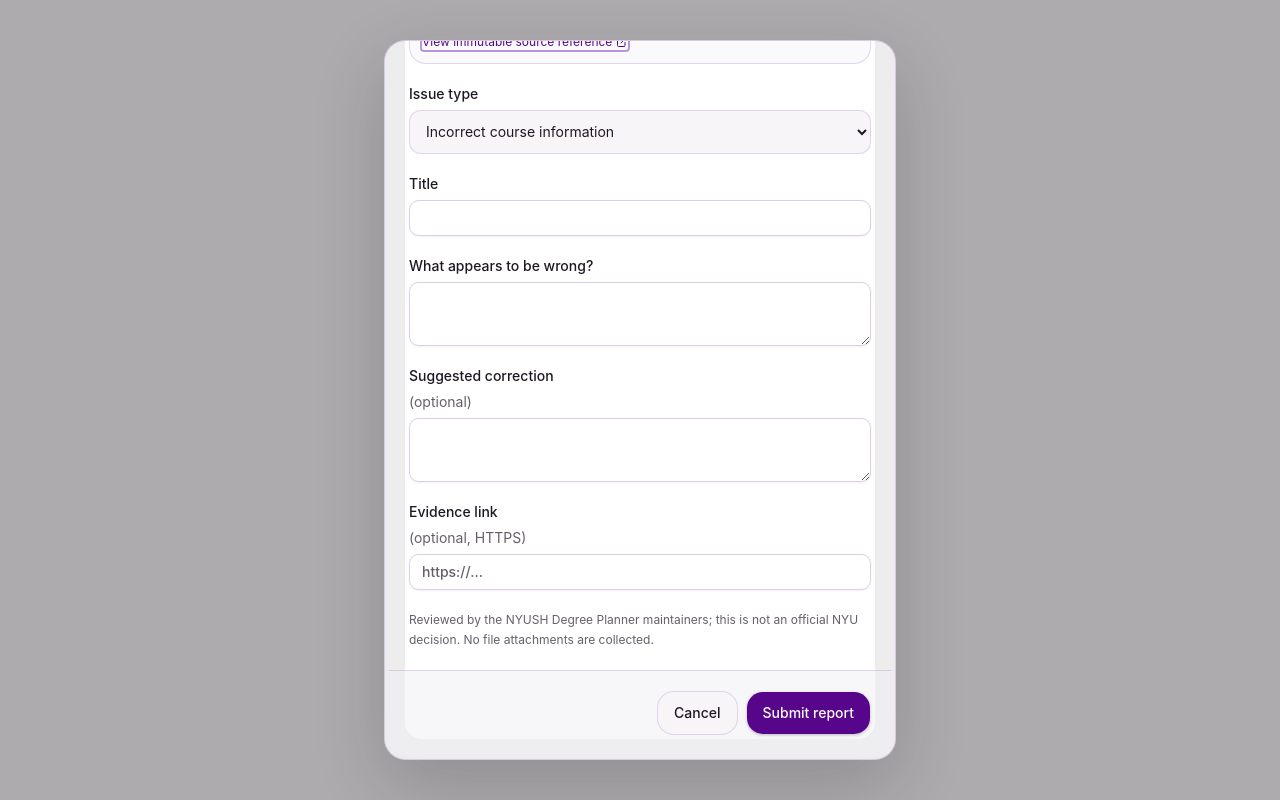
Test: ReportIssueDialog › shows local validation and rate-limit states
(page scrolled)
Click the button "Submit report" at [808, 712], box [746,690,871,734]
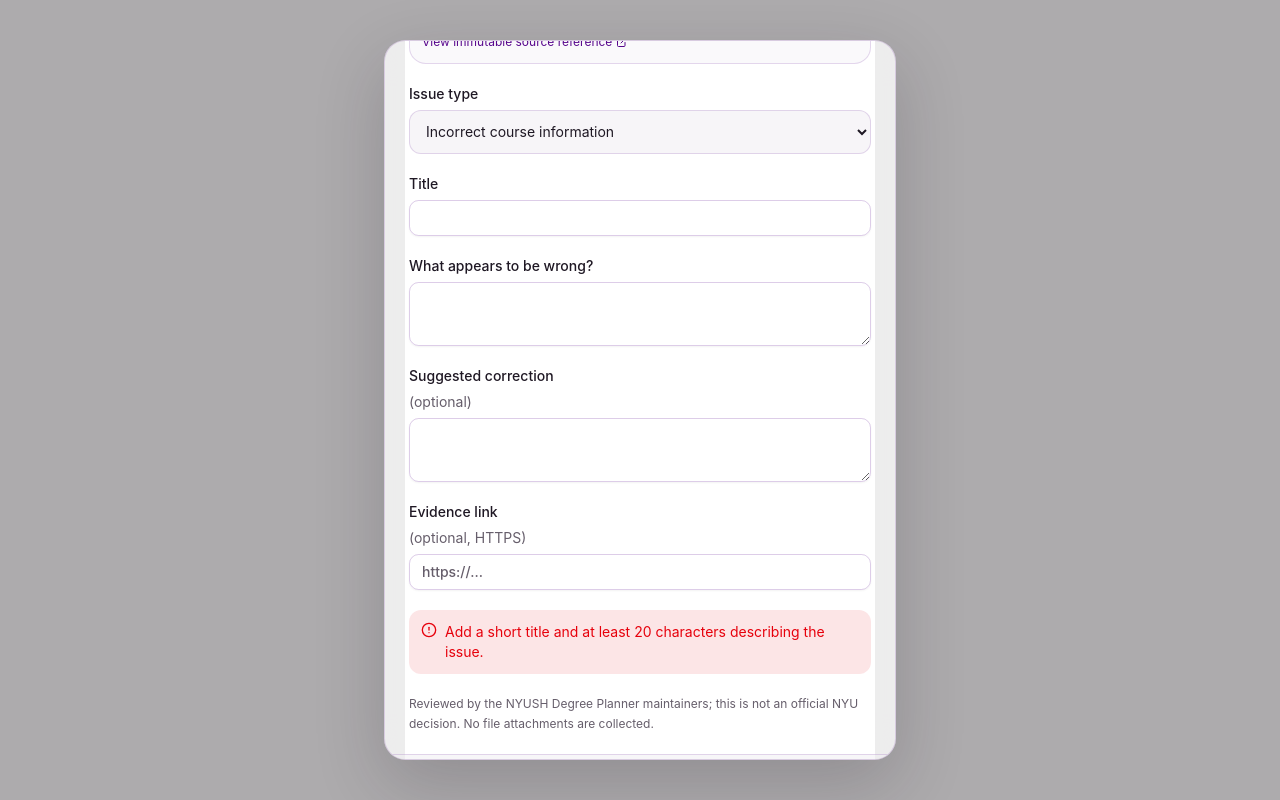
Now the message shows "at least 20", box [445,622,825,660]
Type "Wrong title" into the field labelled "Title" at [640, 218], box [409,200,871,236]
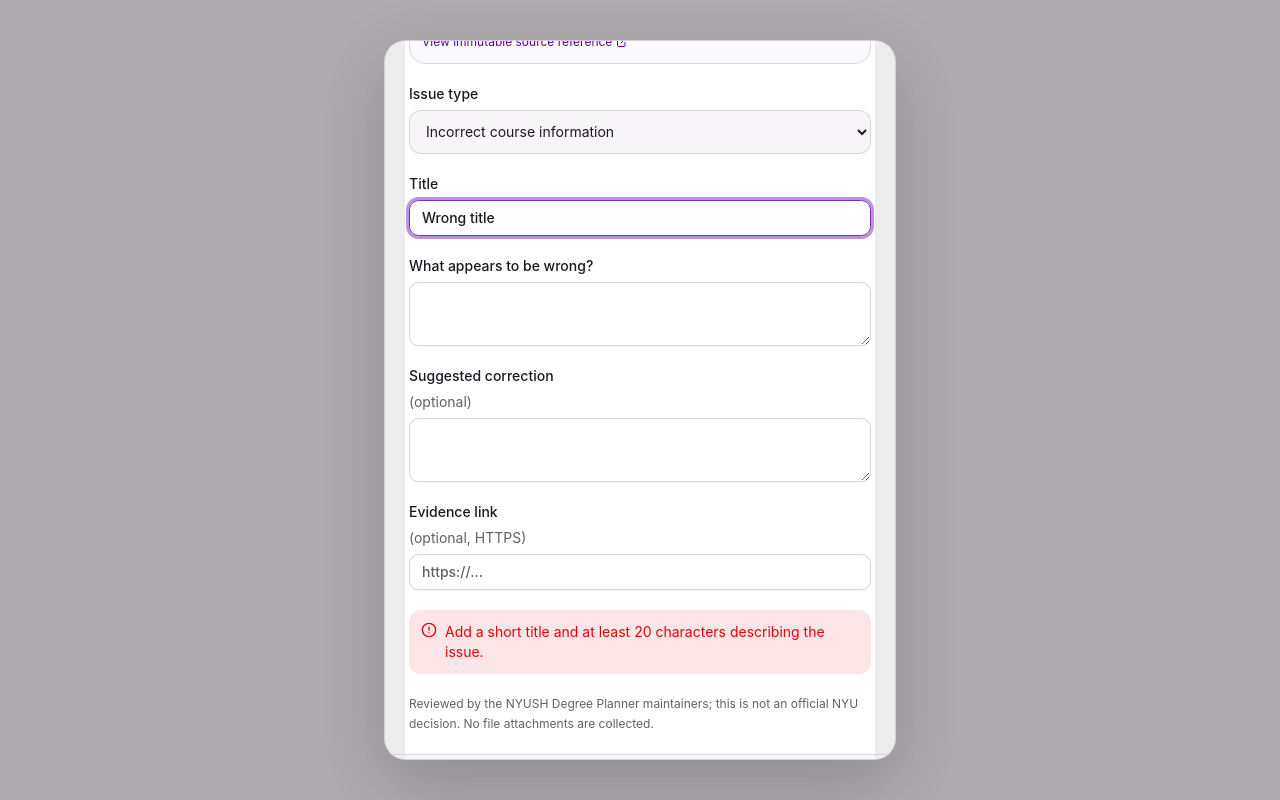
Type "This is a sufficiently detailed explanation of the issue." into the text box labelled "What appears to be wrong?" at [640, 314], box [409,282,871,346]
(page scrolled)
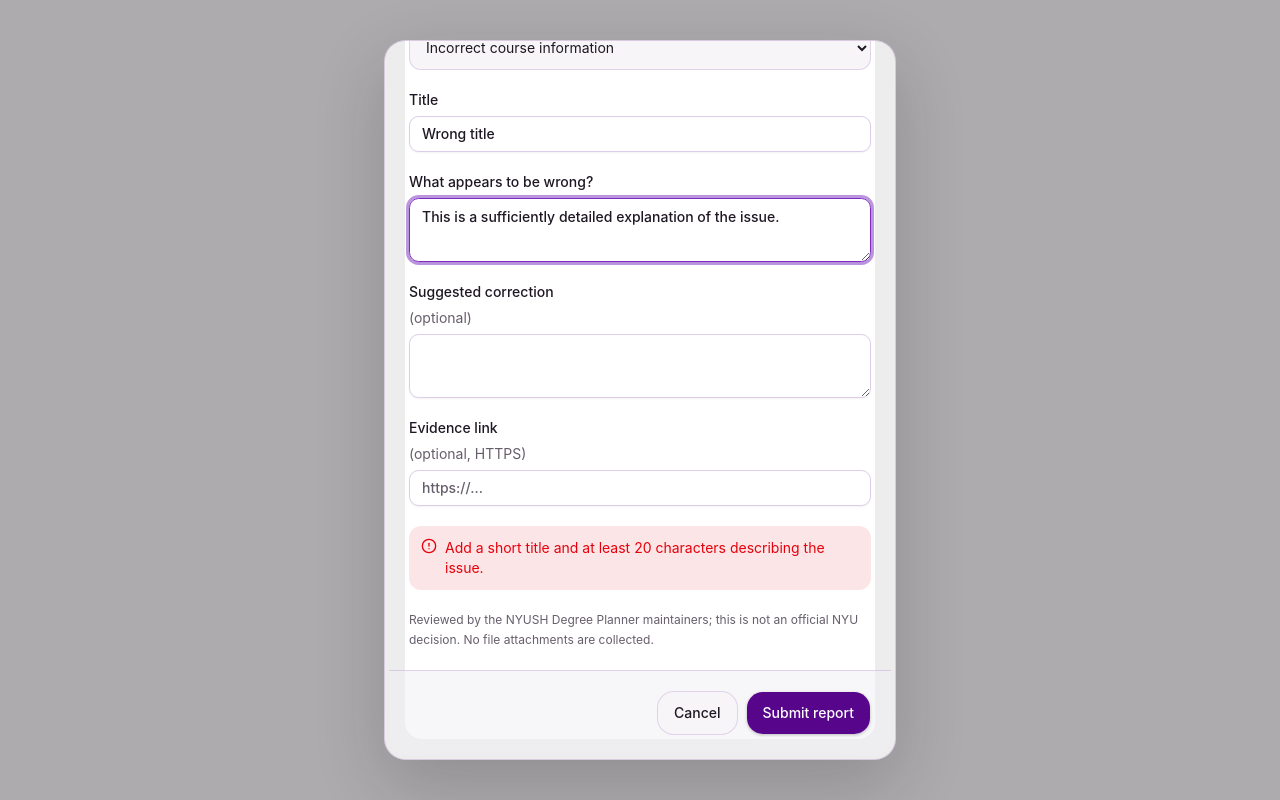
Click the button "Submit report" at [808, 712], box [746,690,871,734]
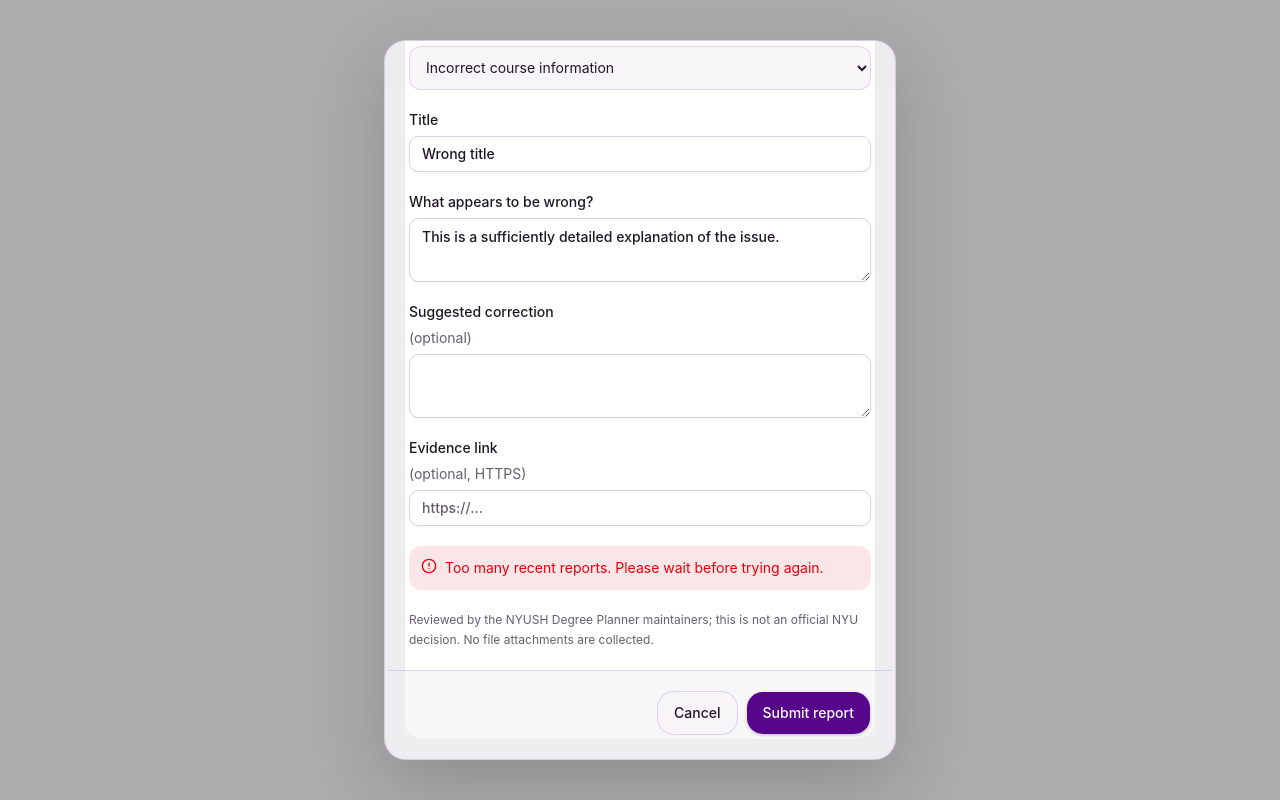
Now the message shows "Too many recent reports", box [445,558,824,576]
